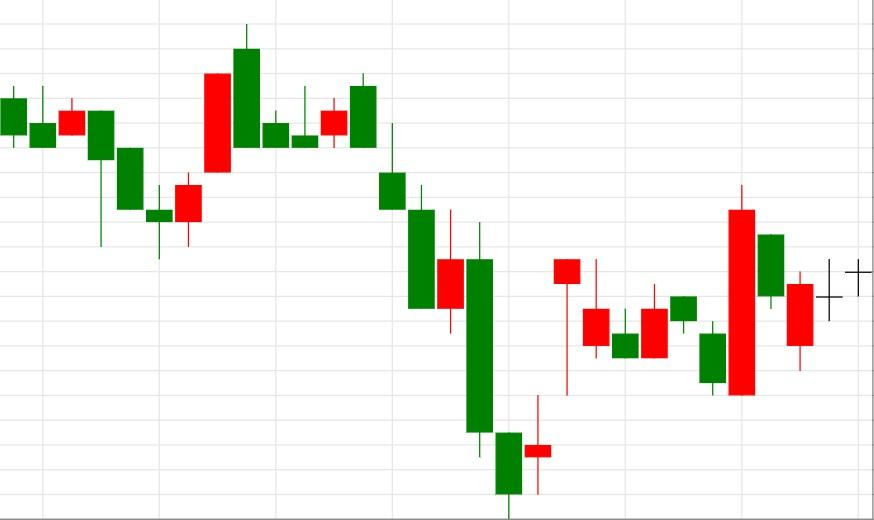bullish_engulfing_rise: (669, 184, 757, 396)
hanging_man_fall: (495, 258, 582, 519)
three_black_crows_fall: (145, 23, 435, 310)
